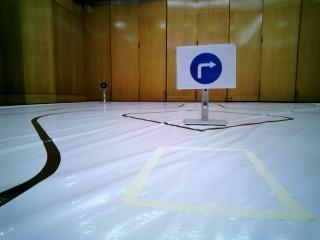right: (181, 51, 233, 89)
